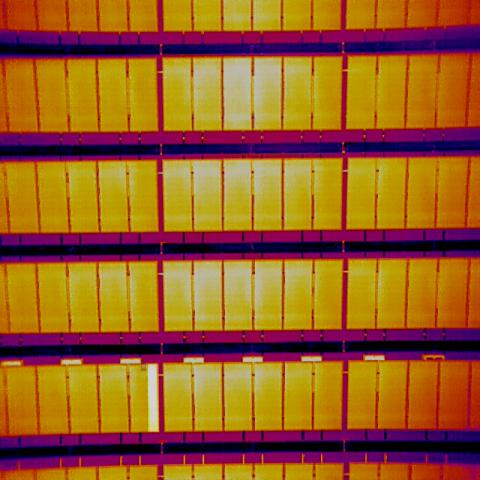fault: (148, 364, 159, 432), (141, 363, 146, 371)
